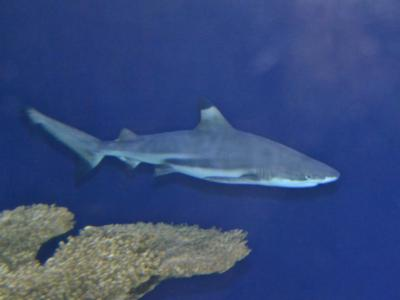Shark -Selachimorpha-: (19, 100, 346, 197)
